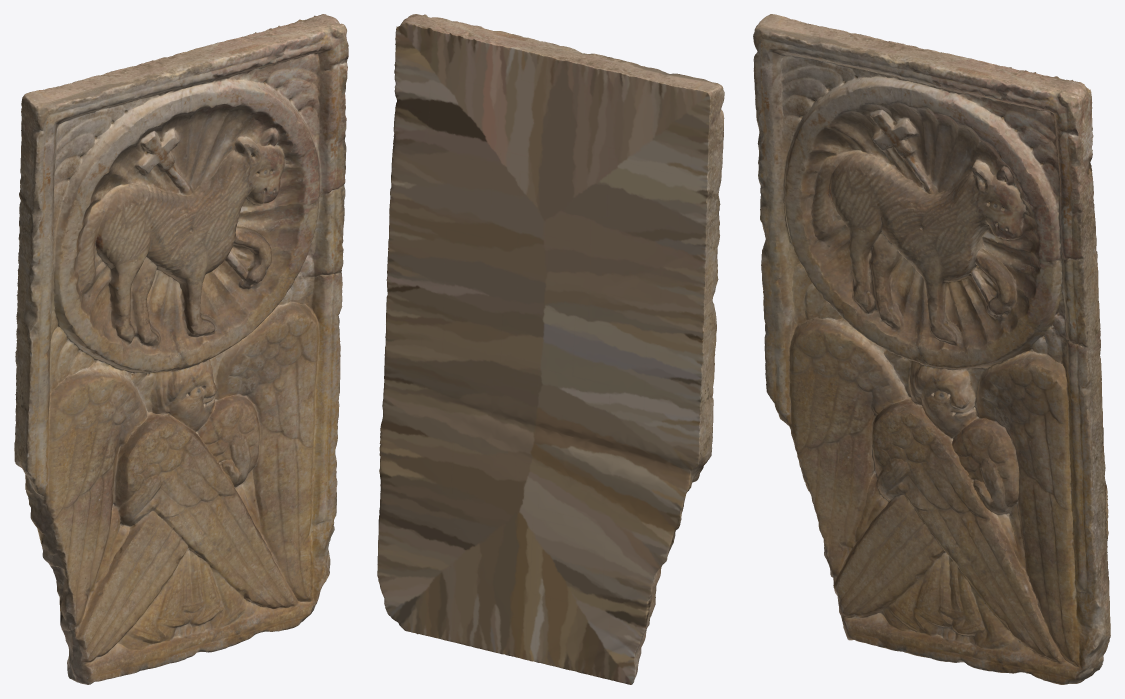
The model's file is preview.glb.
The picture shows the model from 3 angles, left to right: view 1: azimuth 30°, elevation 25°; view 2: azimuth 150°, elevation 25°; view 3: azimuth 330°, elevation 25°; orthographic projection. The views are drawn at different scales.
Visible parts, largest first — view 1: ADVIMG_25_120_574_LambOfGodAndCherub_MASTER2_n3d; view 2: ADVIMG_25_120_574_LambOfGodAndCherub_MASTER2_n3d; view 3: ADVIMG_25_120_574_LambOfGodAndCherub_MASTER2_n3d.
Part boxes in pixels (x1,y1,x2,y2): ADVIMG_25_120_574_LambOfGodAndCherub_MASTER2_n3d: (14,14,348,684); ADVIMG_25_120_574_LambOfGodAndCherub_MASTER2_n3d: (377,14,724,684); ADVIMG_25_120_574_LambOfGodAndCherub_MASTER2_n3d: (753,14,1110,684).
Size of the model in its own units: 0.3707 by 0.6732 by 0.0753.
Materials: 1 (1 with a texture image).
